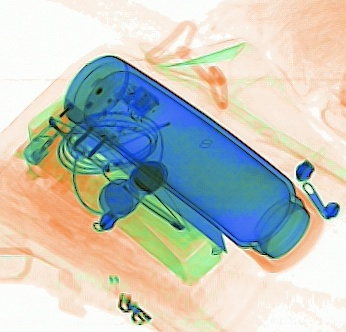lighter: (21, 91, 93, 164)
